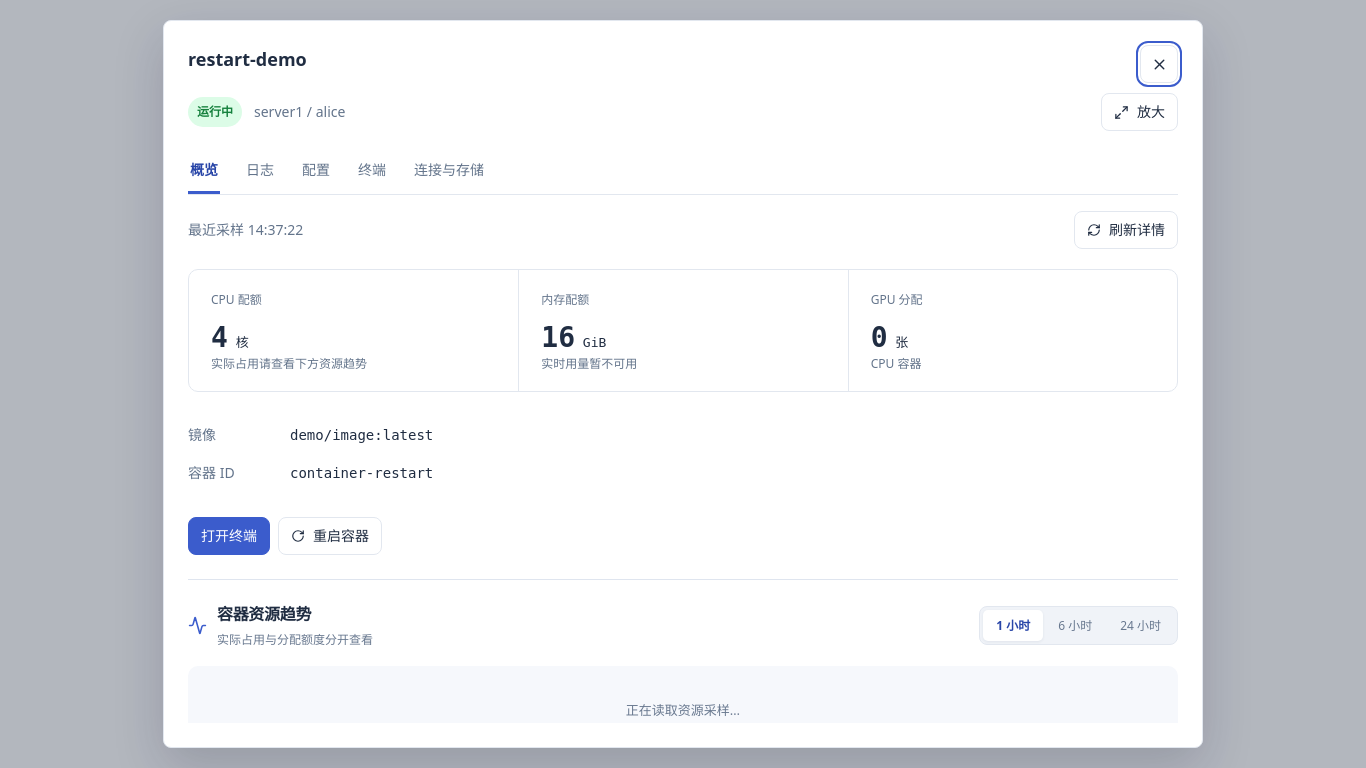
restarts a running container after explicit confirmation and existing session
Expected: the text "最近采样 14:37:22" is shown, top-left (188, 219), bottom-right (303, 242)
Click the button "重启容器" at (330, 536), box top-left (278, 517), bottom-right (382, 555)
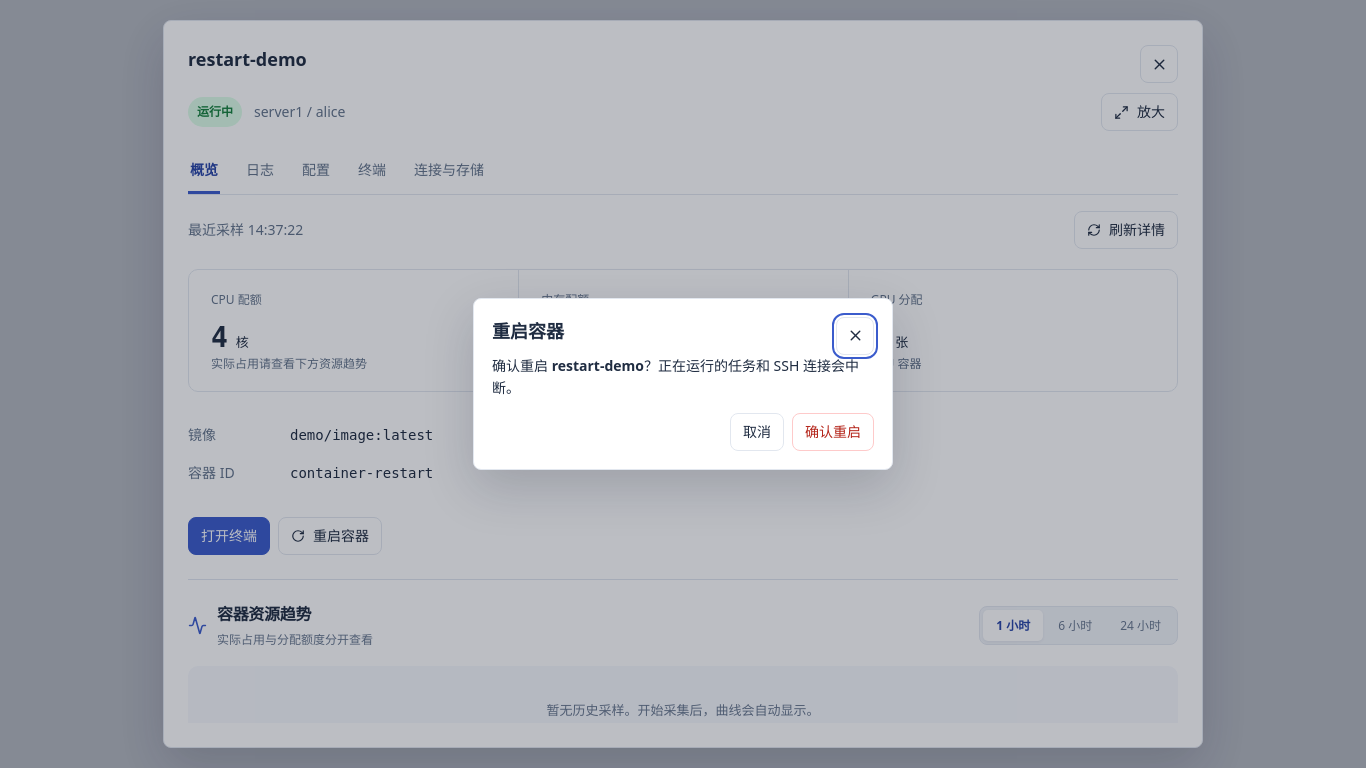
Click the button "确认重启" at (833, 432), box top-left (792, 413), bottom-right (874, 451)
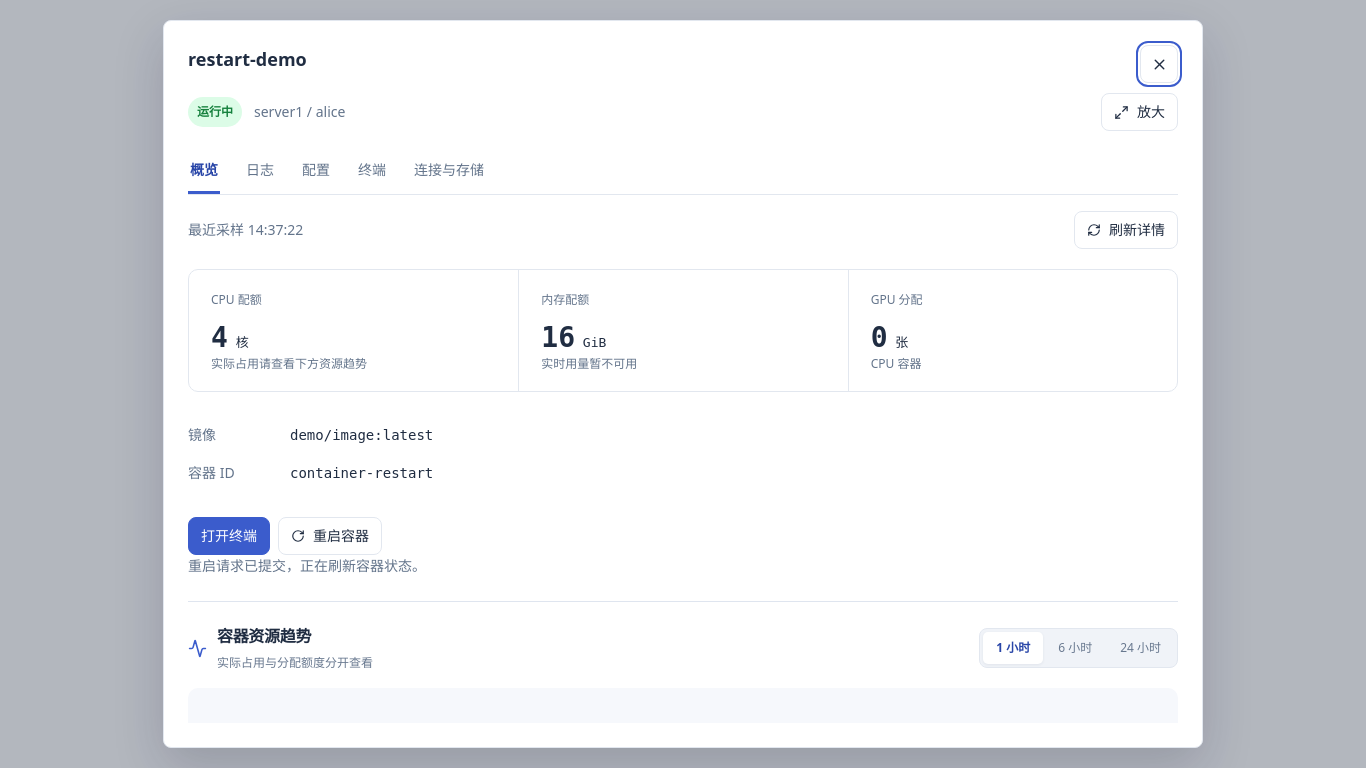
Now the text "重启请求已提交，正在刷新容器状态。" is shown, box top-left (188, 556), bottom-right (426, 575)
